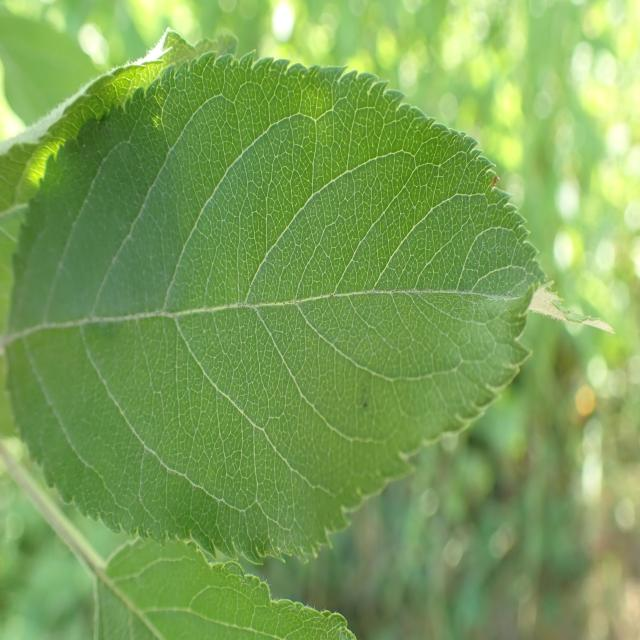healthy: (5, 52, 614, 564), (99, 535, 357, 639)
